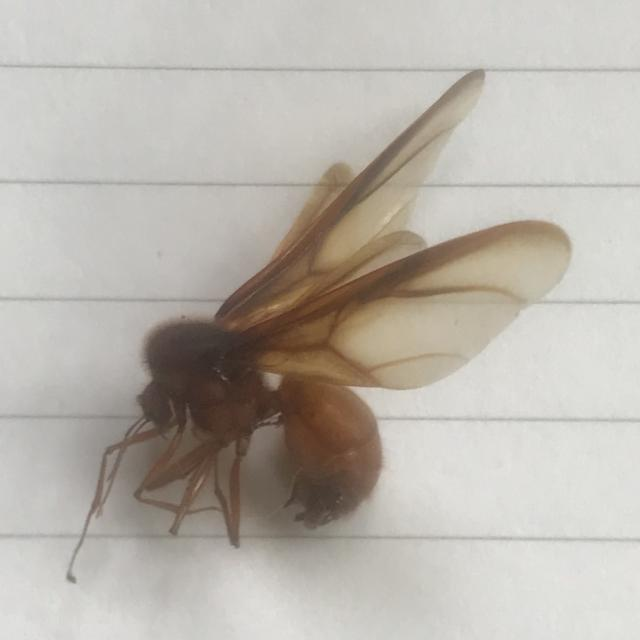Dead-Male-Alate: (65, 68, 573, 585)
